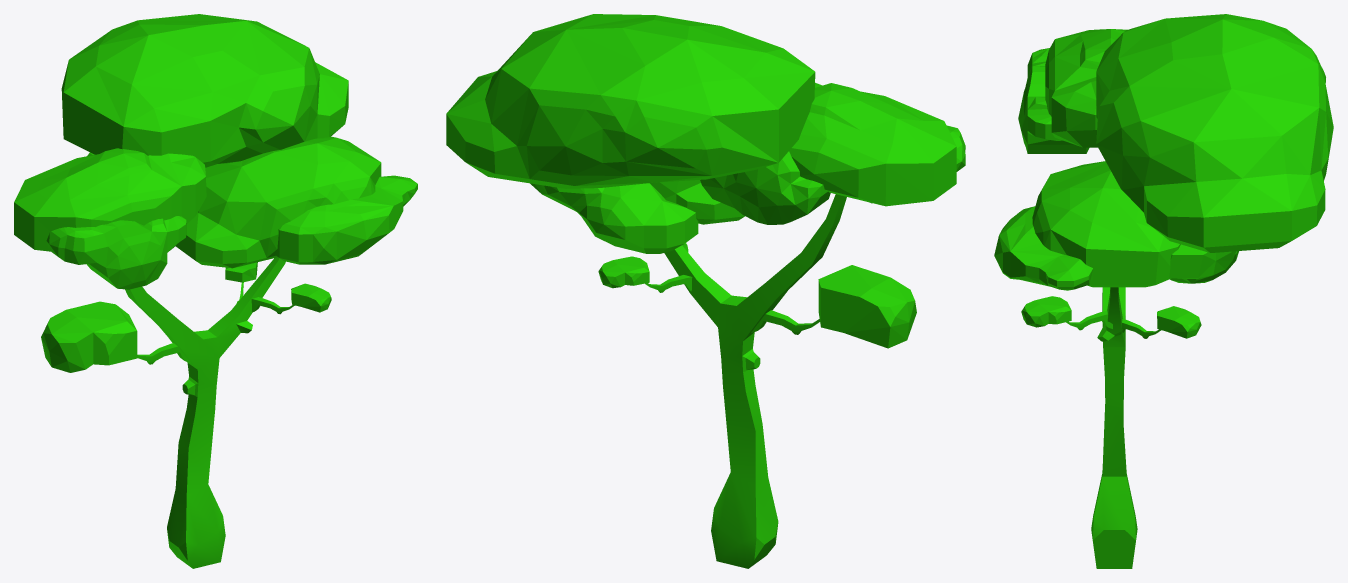
The model's file is M_tree.FBX.
The picture shows the model from 3 angles, left to right: view 1: azimuth 30°, elevation 25°; view 2: azimuth 150°, elevation 25°; view 3: azimuth 270°, elevation 25°; orthographic projection. The views are drawn at different scales.
Visible parts, largest first — view 1: 对象1117, FOL_Foliage_06; view 2: 对象1117, FOL_Foliage_06; view 3: 对象1117, FOL_Foliage_06.
Part boxes in pixels (bbox=[...]): 对象1117: bbox=[14, 14, 417, 372]; FOL_Foliage_06: bbox=[125, 257, 294, 568]; 对象1117: bbox=[446, 14, 965, 348]; FOL_Foliage_06: bbox=[645, 194, 846, 568]; 对象1117: bbox=[994, 14, 1333, 338]; FOL_Foliage_06: bbox=[1066, 287, 1161, 568].
Size of the model in its own units: 1293 by 1636 by 931.
